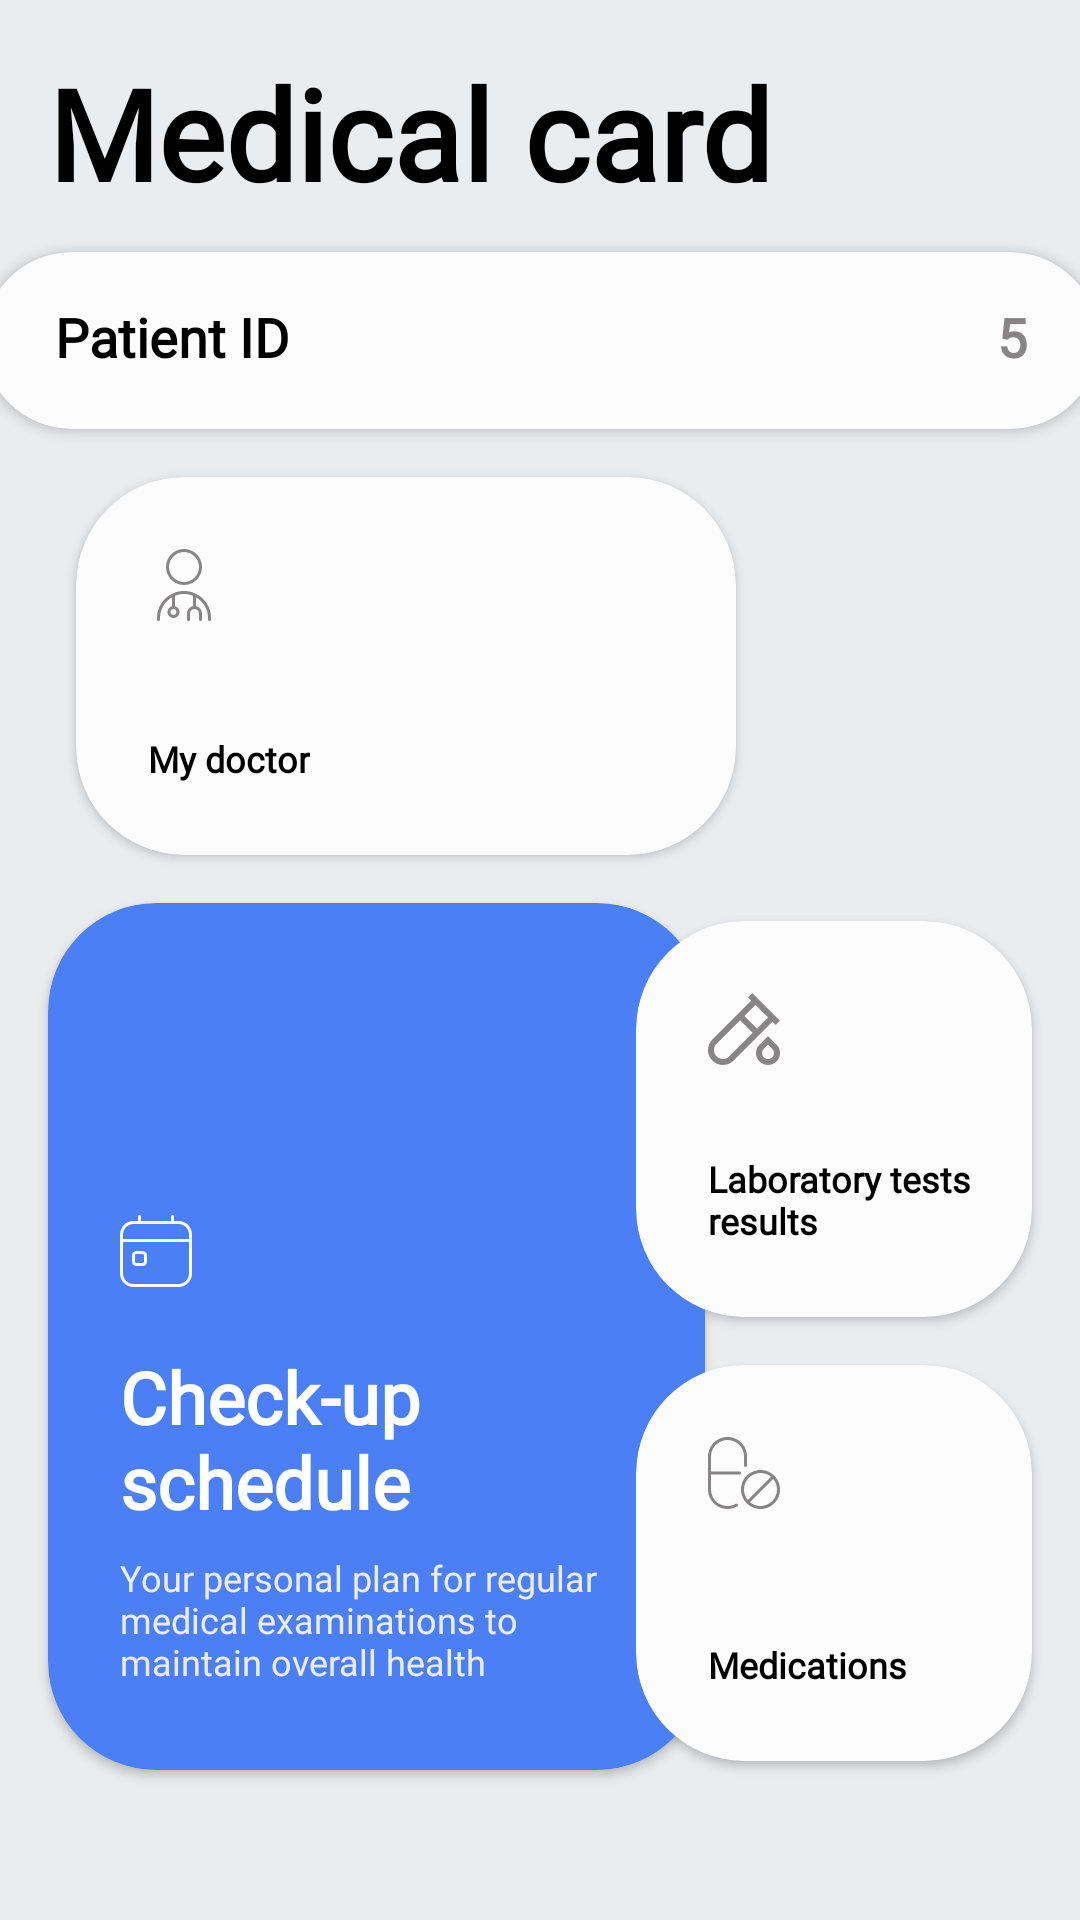

Icon click points for this 1080 x 1920 phone screenshot, format [x,y]:
calendar: [156,1251]
